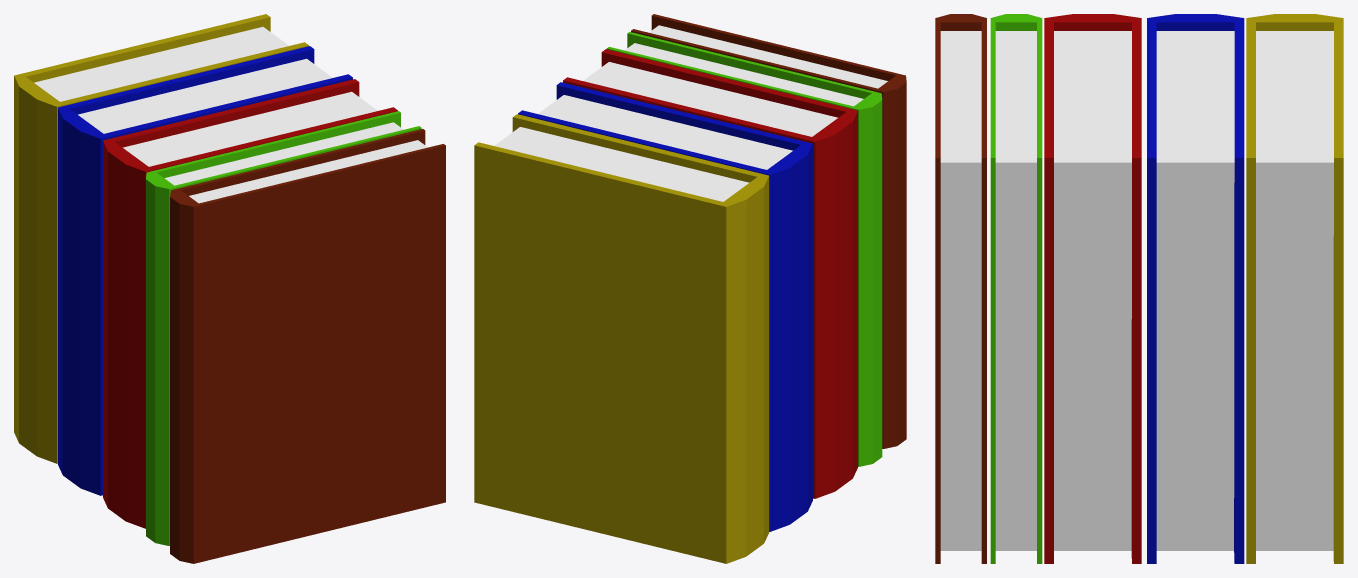
Rendered from BookStack.FBX.
The picture shows the model from 3 angles, left to right: view 1: azimuth 30°, elevation 25°; view 2: azimuth 150°, elevation 25°; view 3: azimuth 270°, elevation 25°; orthographic projection. The views are drawn at different scales.
Visible parts, largest first — view 1: Book1; view 2: Book1; view 3: Book1.
Part boxes in pixels (<box>): Book1: <box>14,14,445,563</box>; Book1: <box>474,14,906,563</box>; Book1: <box>935,14,1343,563</box>.
Bounding box in the file's own units: 17.5 × 23 × 20.96.
